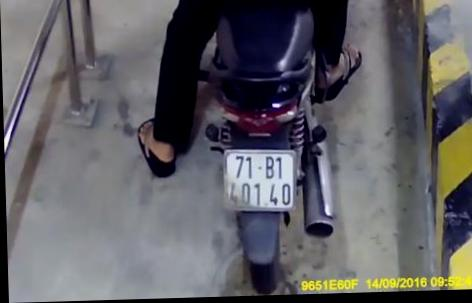License_Plate: (211, 140, 302, 219)
